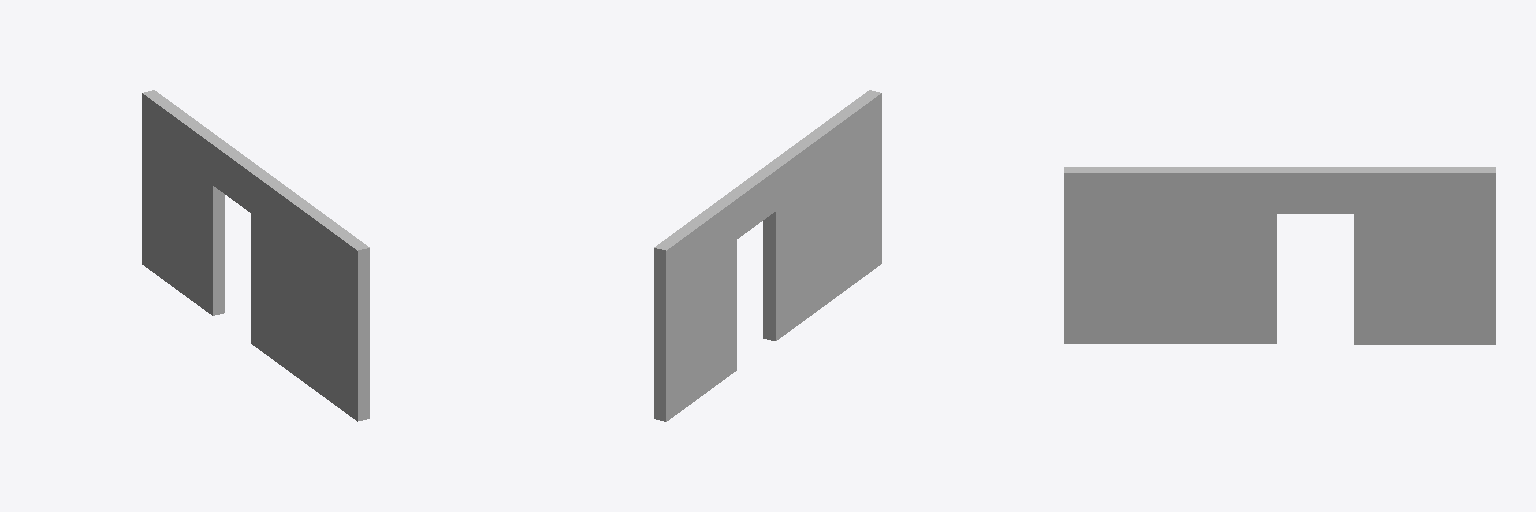
File: sWall.obj
The picture shows the model from 3 angles: view 1: azimuth 30°, elevation 25°; view 2: azimuth 150°, elevation 25°; view 3: azimuth 270°, elevation 25°; orthographic projection.
Parts seen in each view (by area): view 1: sWall; view 2: sWall; view 3: sWall.
Part boxes in pixels (bbox=[...]): sWall: bbox=[142, 90, 369, 421]; sWall: bbox=[654, 90, 881, 421]; sWall: bbox=[1064, 167, 1495, 344].
Size of the model in its own units: 0.3791 by 5.01 by 11.41.